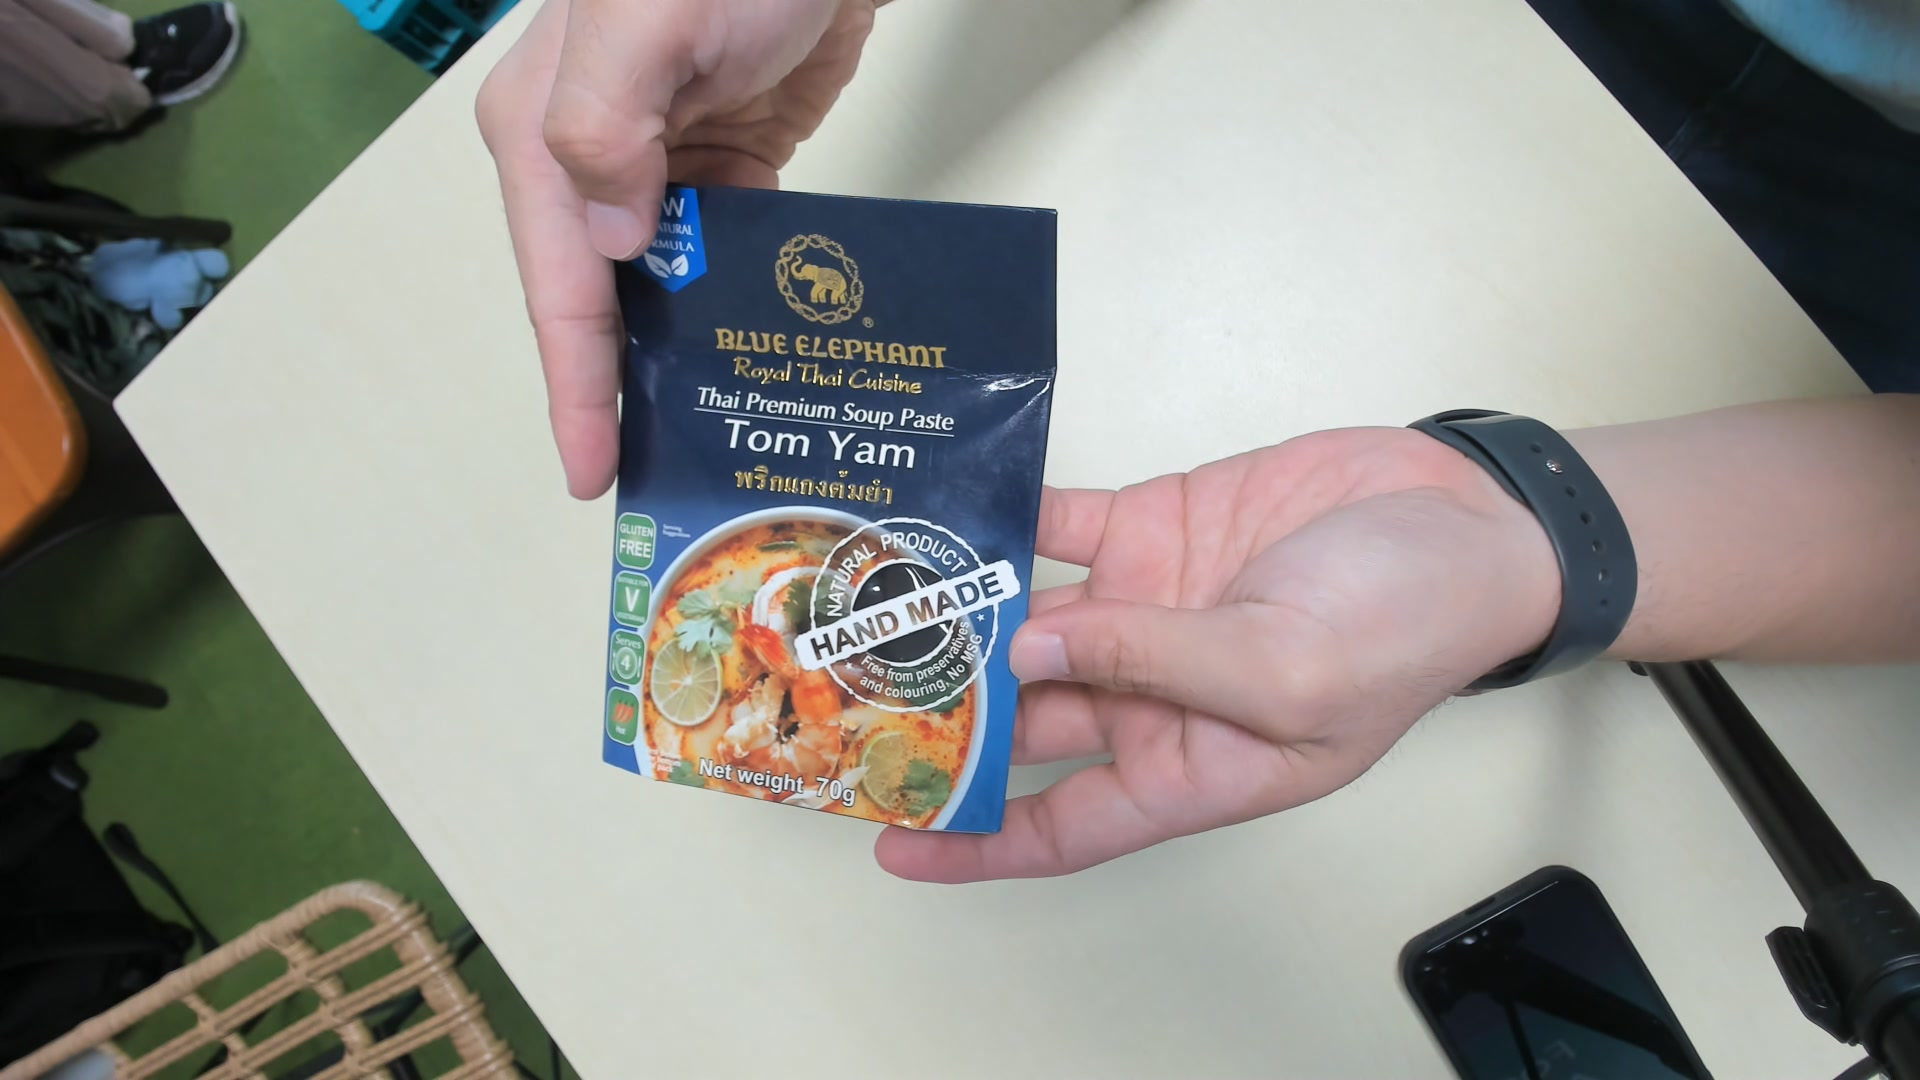OtherSauceDressing_0-99g_Halal_NonHealthy: (604, 187, 1048, 829)
